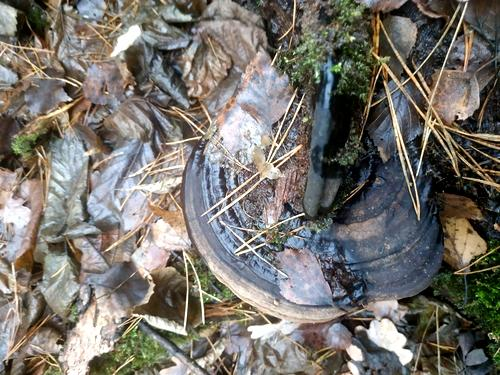Ganoderma - Fruit Body: (181, 59, 446, 325)
